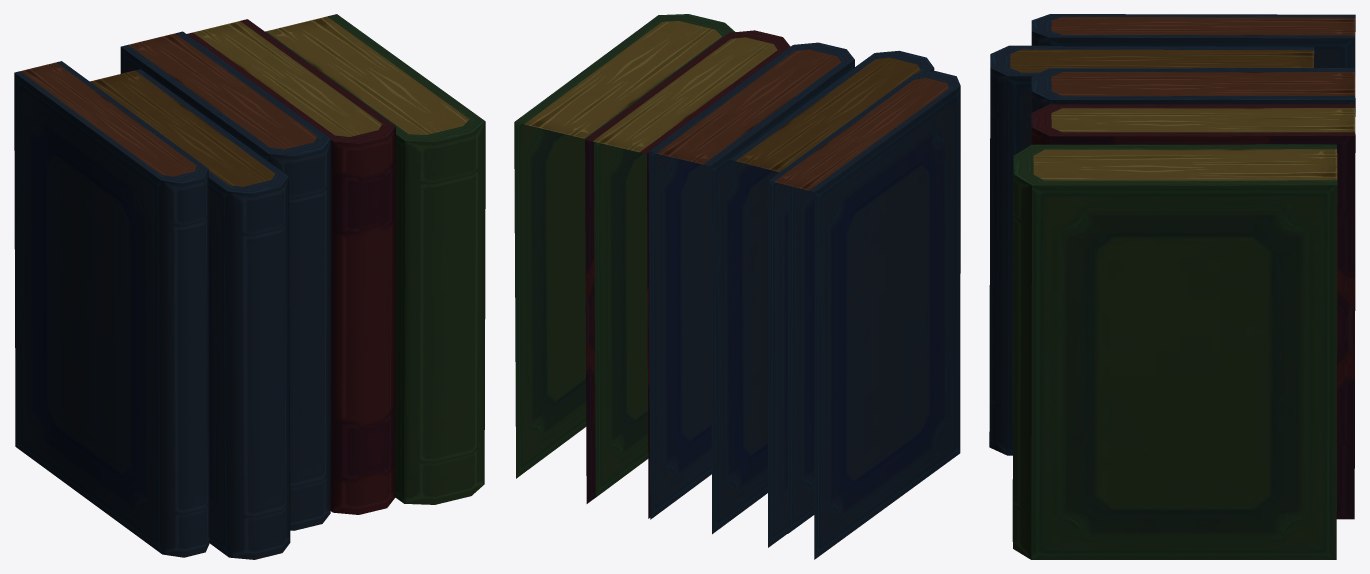
Rendered from BookGroup_Small_3.glb.
The picture shows the model from 3 angles, left to right: view 1: azimuth 30°, elevation 25°; view 2: azimuth 150°, elevation 25°; view 3: azimuth 270°, elevation 25°; orthographic projection. The views are drawn at different scales.
Parts seen in each view (by area): view 1: BookGroup_Small_3; view 2: BookGroup_Small_3; view 3: BookGroup_Small_3.
Part boxes in pixels (bbox=[...]): BookGroup_Small_3: bbox=[14, 14, 485, 559]; BookGroup_Small_3: bbox=[514, 14, 960, 559]; BookGroup_Small_3: bbox=[989, 14, 1355, 559].
Size of the model in its own units: 0.2448 by 0.2774 by 0.2373.
1 material, 1 textured.
